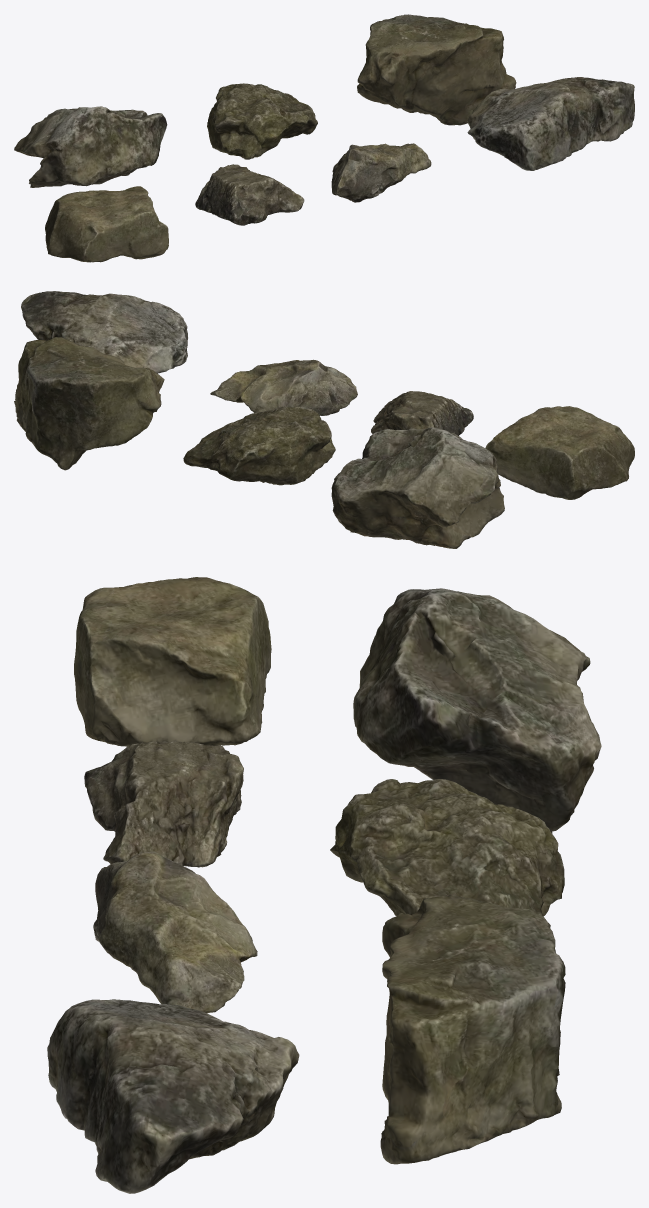
File: rock_moss_set_02.glb
3 views of the same model, one above another, from view 1: azimuth 30°, elevation 25°; view 2: azimuth 150°, elevation 25°; view 3: azimuth 270°, elevation 25° (orthographic). The views are drawn at different scales.
Parts seen in each view (by area): view 1: rock_moss_set_02_rock08; view 2: rock_moss_set_02_rock08; view 3: rock_moss_set_02_rock08.
Boxes of the visible parts, <box> form: rock_moss_set_02_rock08: <box>14,14,634,262</box>; rock_moss_set_02_rock08: <box>14,291,634,548</box>; rock_moss_set_02_rock08: <box>47,577,601,1193</box>.
Size of the model in its own units: 8.28 by 1.37 by 3.41.
Materials: 1 (1 with a texture image).
